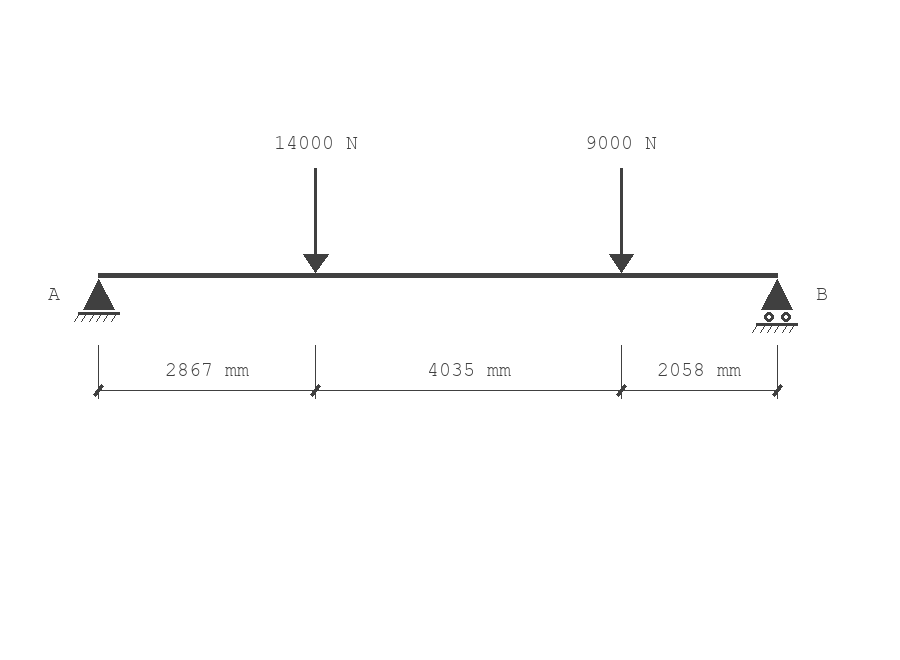pin_support: (74, 279, 120, 322)
point_load: (303, 168, 329, 273), (609, 168, 634, 273)
roller_support: (752, 279, 798, 333)
